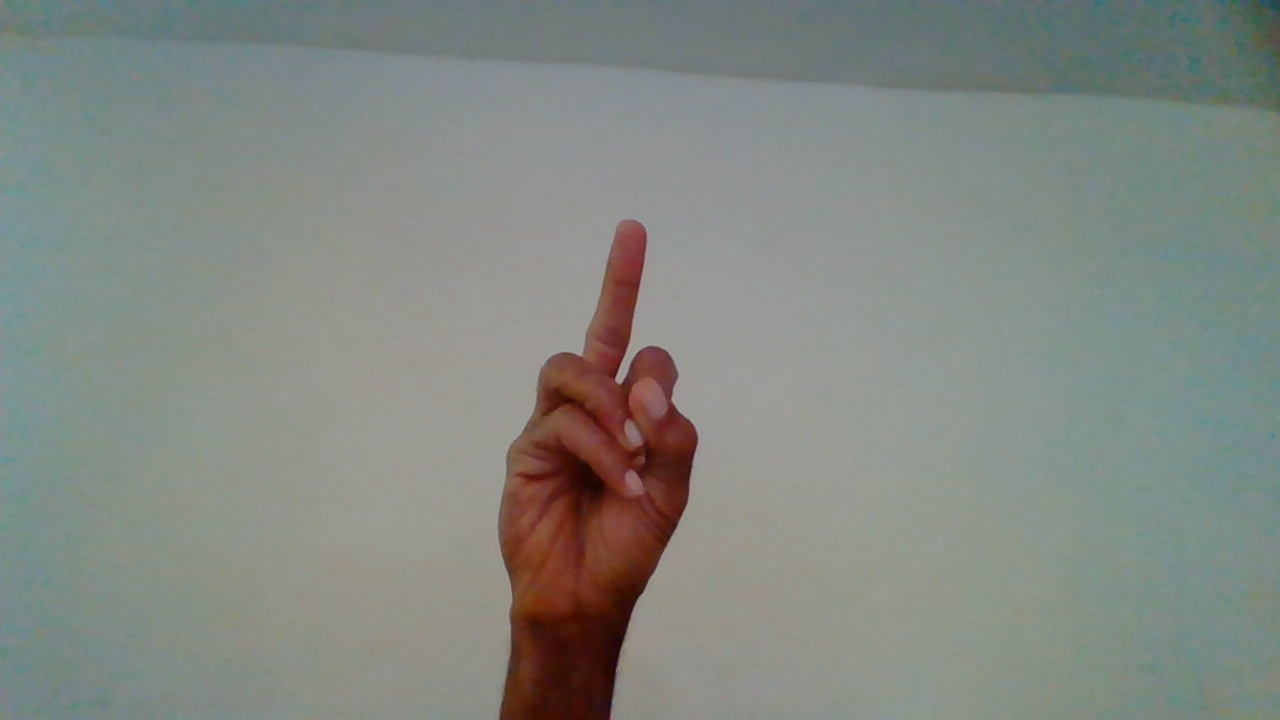he: (499, 221, 695, 710)
